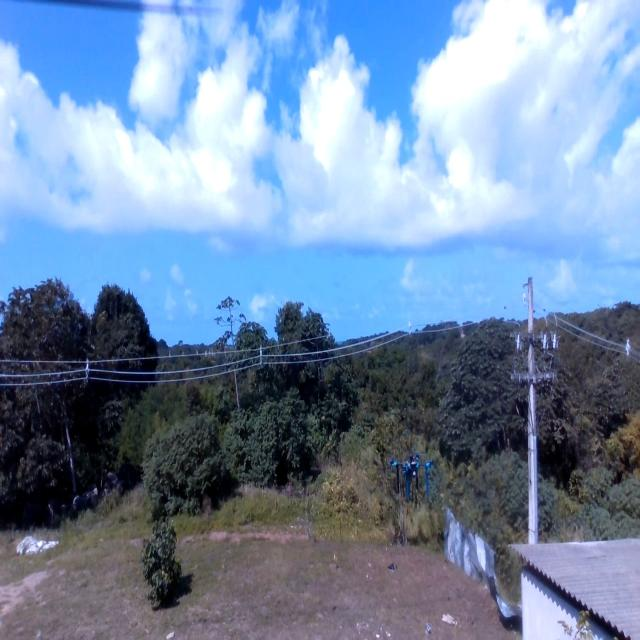-uav-: (379, 444, 449, 511)
